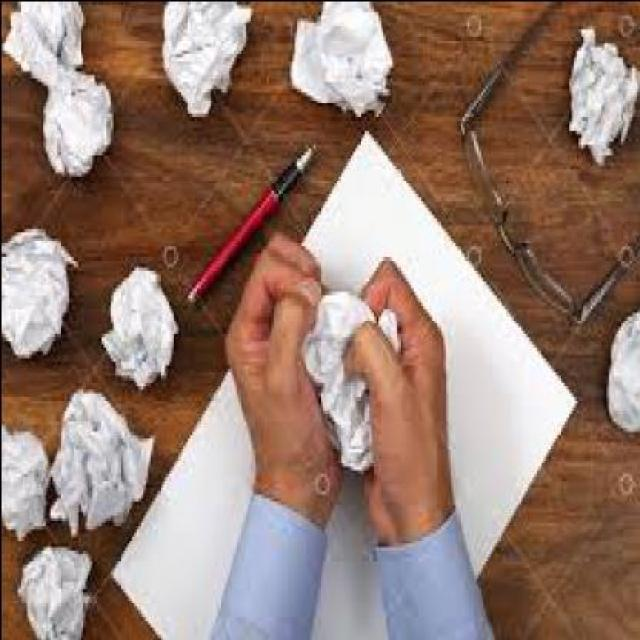PAPER: (114, 122, 581, 636), (305, 279, 400, 476), (54, 384, 155, 536), (290, 1, 396, 116), (160, 1, 252, 116), (2, 224, 80, 356), (568, 20, 638, 151), (105, 258, 177, 384), (44, 67, 116, 175), (18, 538, 94, 637), (2, 1, 86, 77), (1, 419, 54, 539), (610, 300, 638, 435)
